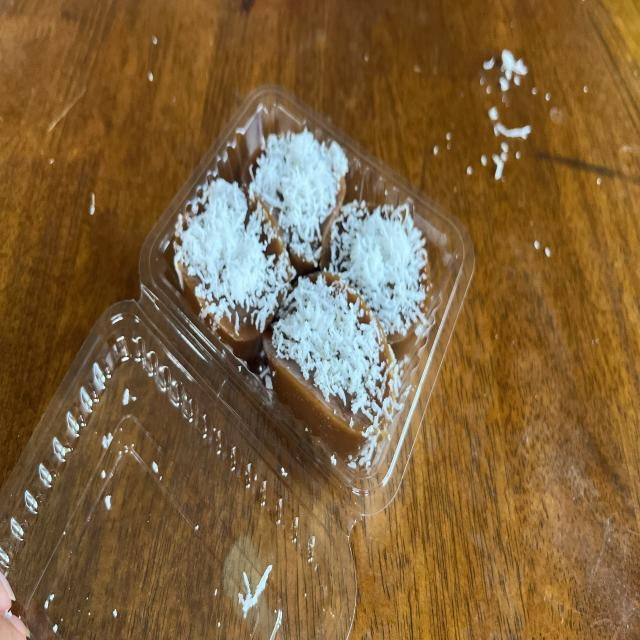Kuih lompang: (262, 271, 398, 462), (172, 178, 295, 360), (320, 200, 429, 360), (250, 129, 349, 276)
